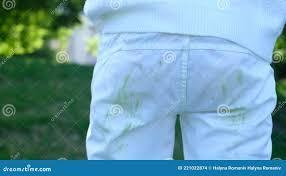earth: (111, 79, 148, 117), (219, 83, 233, 101), (234, 71, 243, 84)
